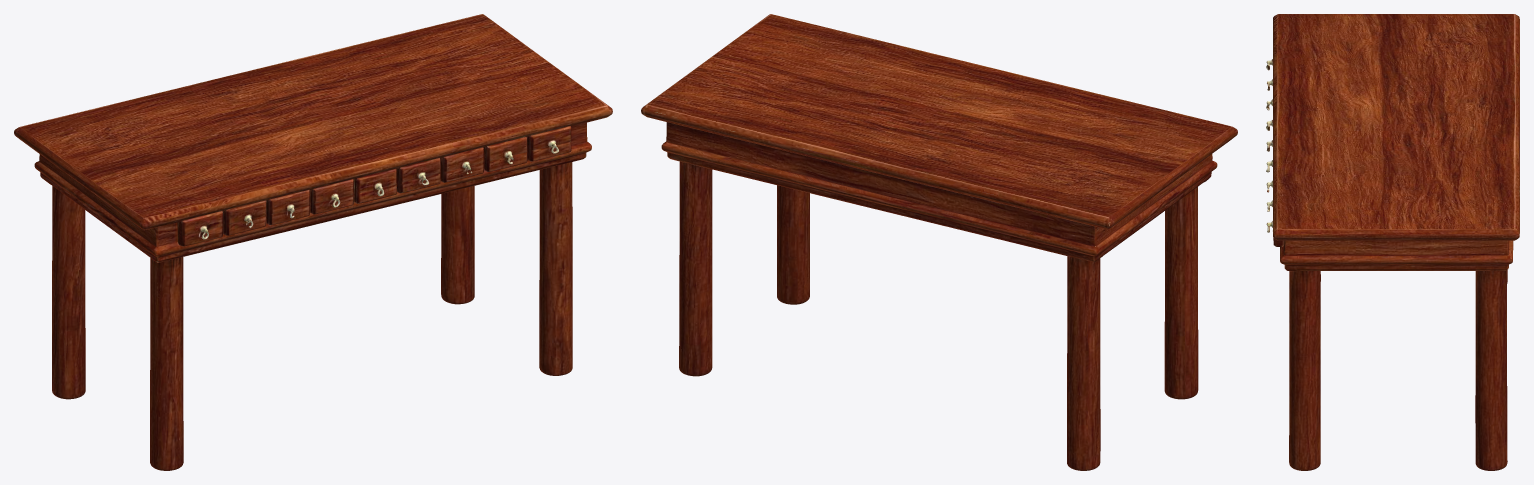
The model's file is bench.glb.
The picture shows the model from 3 angles, left to right: view 1: azimuth 30°, elevation 25°; view 2: azimuth 150°, elevation 25°; view 3: azimuth 270°, elevation 25°; orthographic projection. The views are drawn at different scales.
Visible parts, largest first — view 1: bench; view 2: bench; view 3: bench.
Part boxes in pixels (x1,y1,x2,y2): bench: [14, 14, 612, 470]; bench: [641, 14, 1237, 470]; bench: [1266, 14, 1519, 470].
Bounding box in the file's own units: 1.85 × 1 × 0.908.
1 material, 1 textured.
